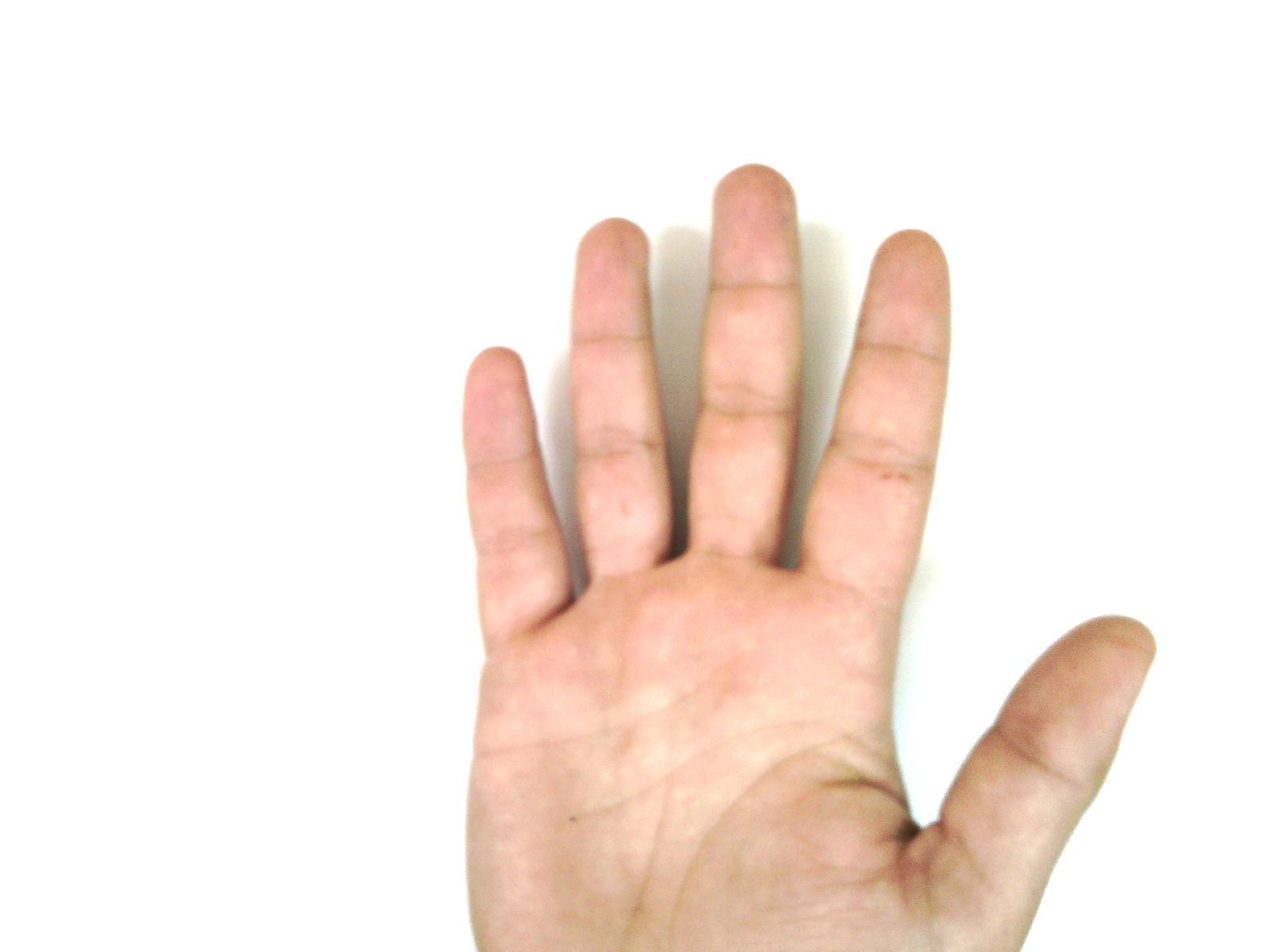open_palm: (456, 163, 1158, 951)
